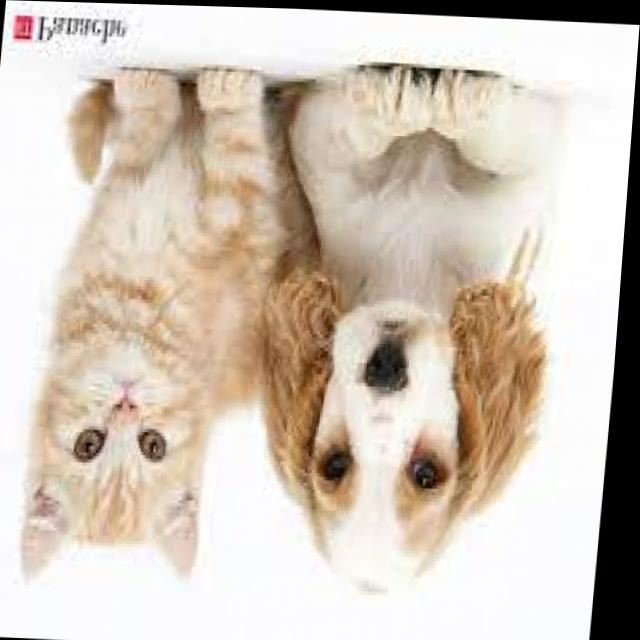Cat: (0, 50, 283, 601)
Dog: (250, 57, 587, 594)
